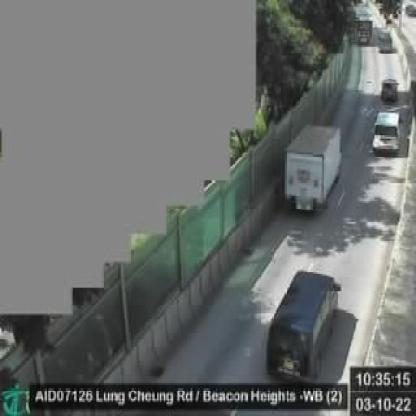Car: (265, 272, 339, 385), (370, 111, 401, 152), (381, 78, 398, 102), (377, 28, 393, 52)
Truck: (284, 123, 344, 210)
